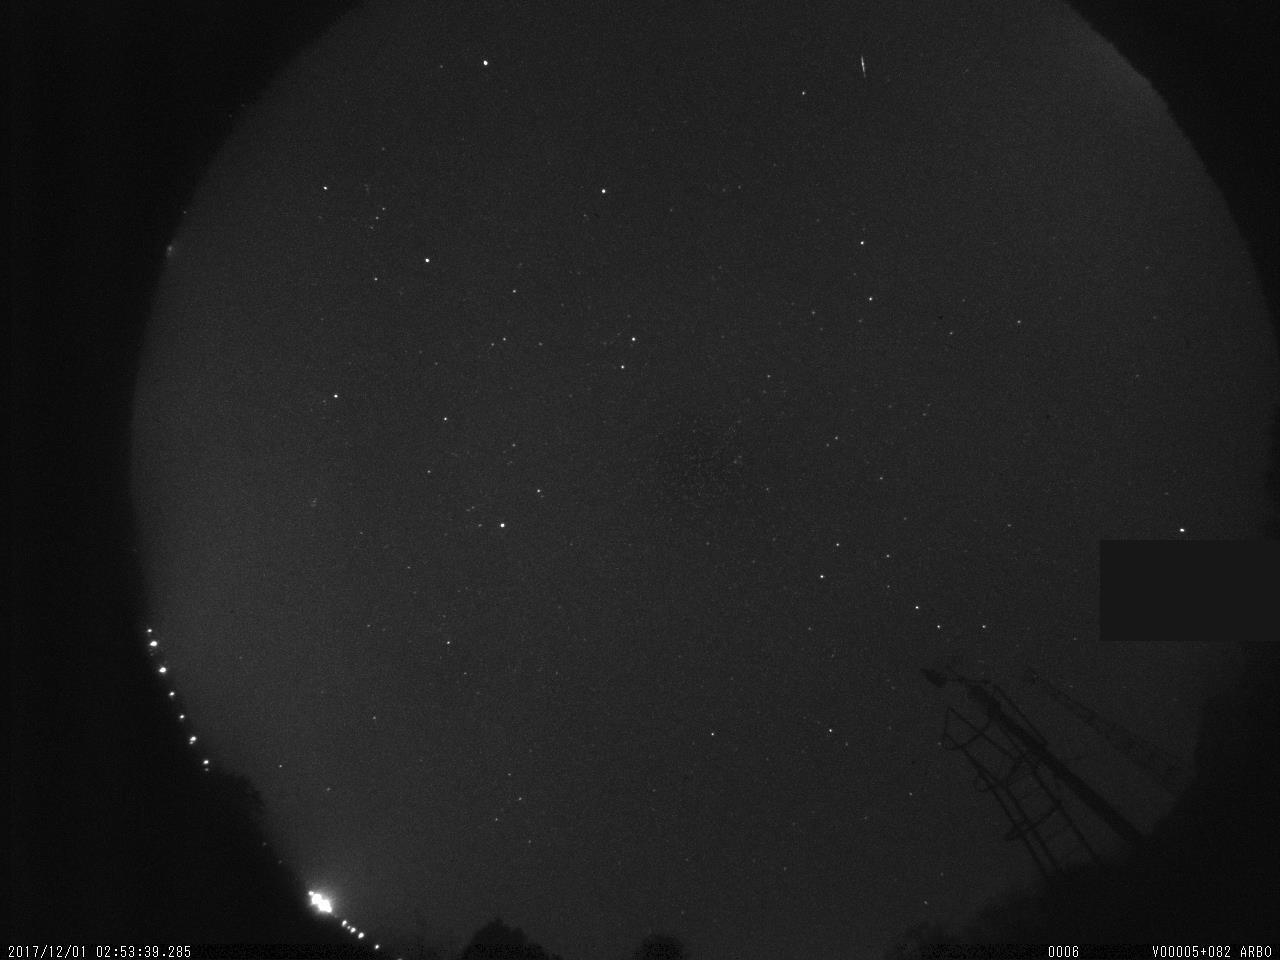meteor: (849, 42, 876, 92)
